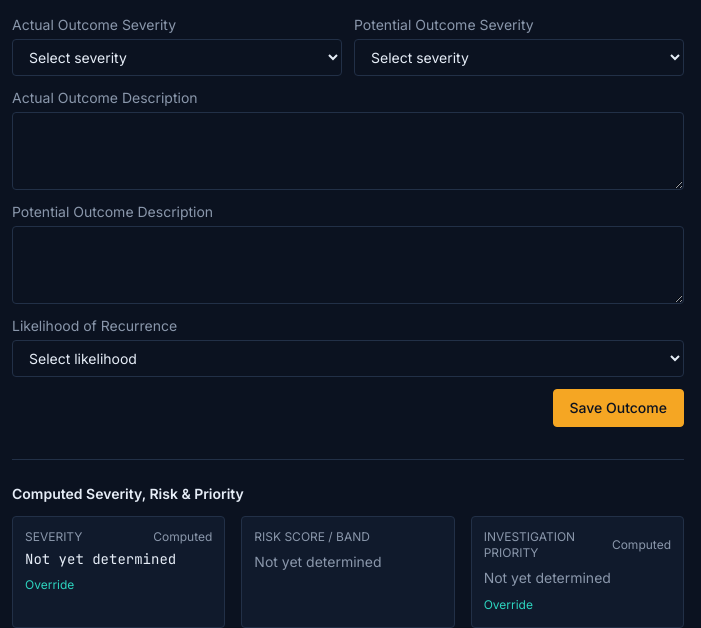
ClassificationPanel — Override toggle › Cancel closes the override form without requiring submission
(page scrolled)
Click the 1st button "Override".
click(50, 585)  # box [25,577,74,593]
(page scrolled)
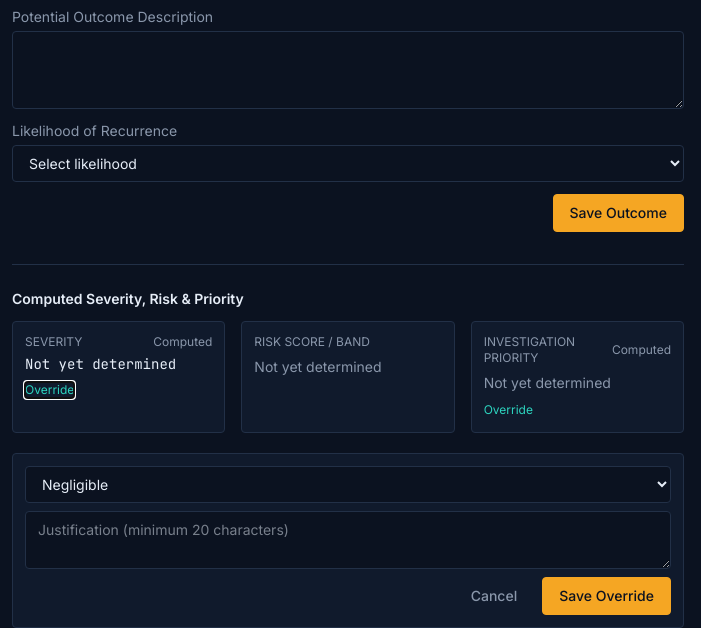
expect the text box with placeholder "Justification (minimum 20 characters)" is shown: met, box [25,511,671,569]
Click the button "Cancel".
click(494, 596)  # box [454,577,534,615]
(page scrolled)
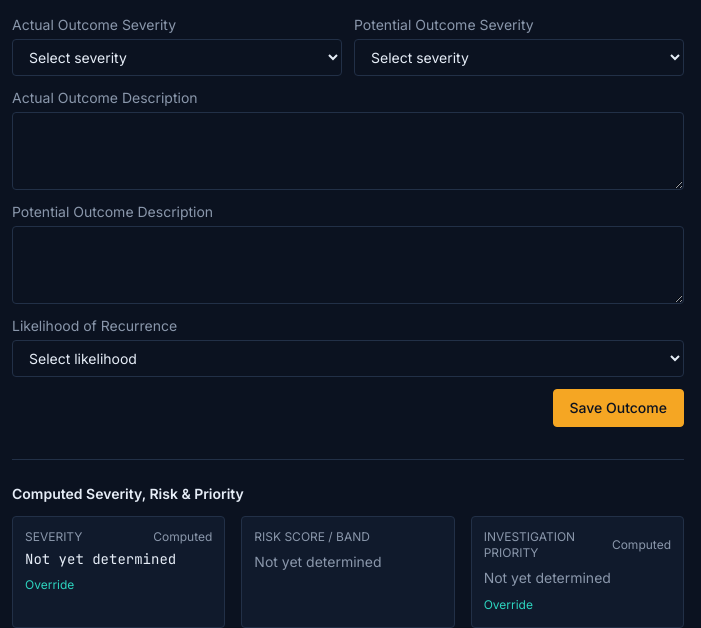
expect the text box with placeholder "Justification" is gone: met
